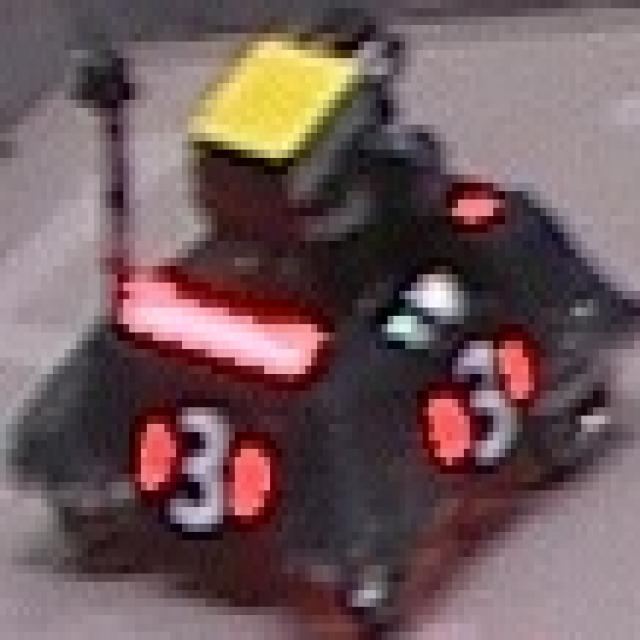R3: (129, 391, 276, 532), (417, 324, 540, 466)
